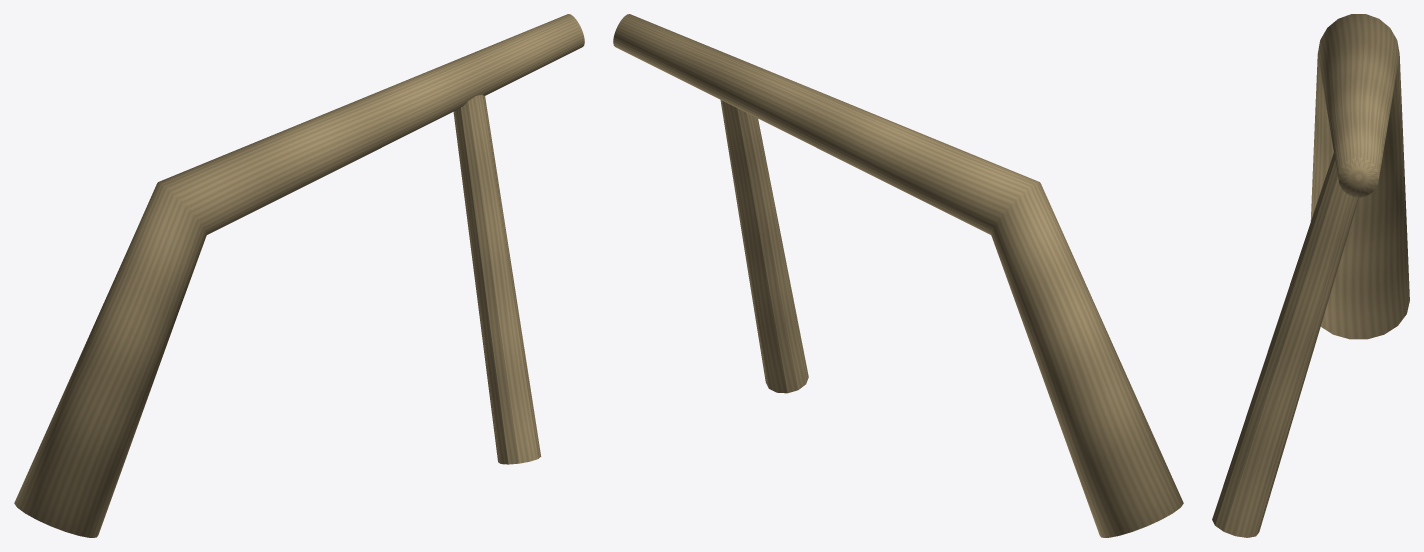
Rendered from leaning_half_fallen_trunk_swamp_and_mangrove_22606.glb.
3 renders of one model, left to right at view 1: azimuth 30°, elevation 25°; view 2: azimuth 150°, elevation 25°; view 3: azimuth 270°, elevation 25°, orthographic. The views are drawn at different scales.
Visible parts, largest first — view 1: half-fallen-trunk; view 2: half-fallen-trunk; view 3: half-fallen-trunk.
Part boxes in pixels (x1,y1,x2,y2): half-fallen-trunk: (14, 14, 584, 537); half-fallen-trunk: (613, 14, 1183, 537); half-fallen-trunk: (1212, 14, 1409, 537).
Size of the model in its own units: 3.54 by 2.4 by 0.9653.
Materials: 1 (1 with a texture image).
